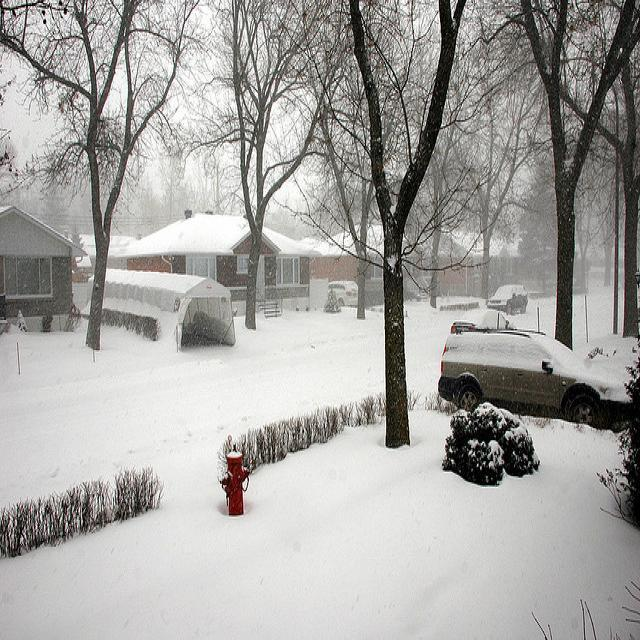fire_hydrant: (220, 444, 249, 518)
